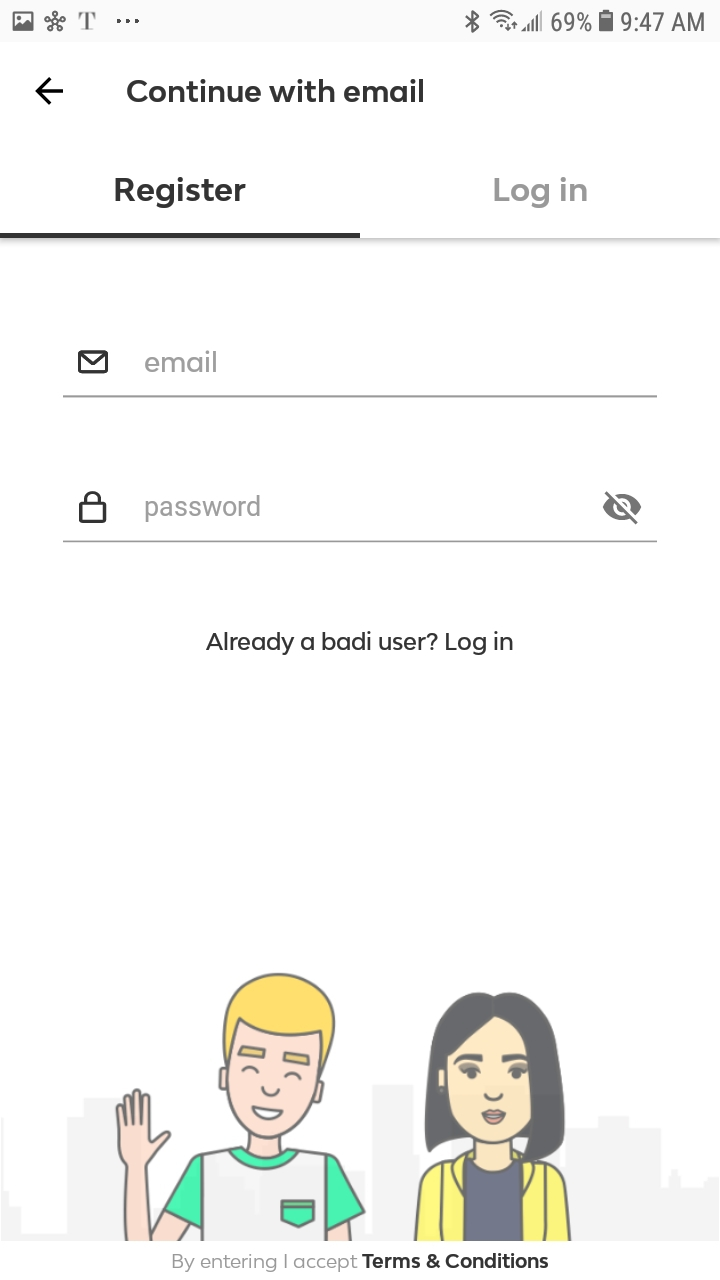EditText: (64, 491, 658, 543), (64, 350, 658, 399)
Icon: (602, 491, 642, 525), (80, 491, 108, 524), (36, 78, 65, 106), (79, 350, 110, 375)
Image: (1, 973, 720, 1242)
Text: (127, 79, 424, 104), (206, 632, 514, 656), (173, 1253, 548, 1272), (115, 177, 247, 209), (145, 495, 261, 524), (494, 177, 588, 210), (145, 350, 218, 374)
UpperTaskBar: (1, 1, 720, 42)
